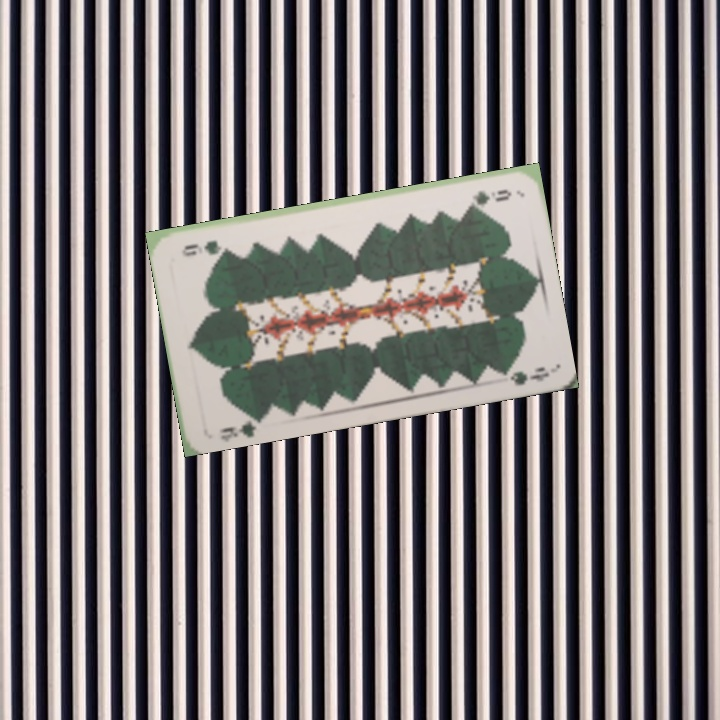G9: (216, 410, 264, 442), (464, 185, 514, 209)
